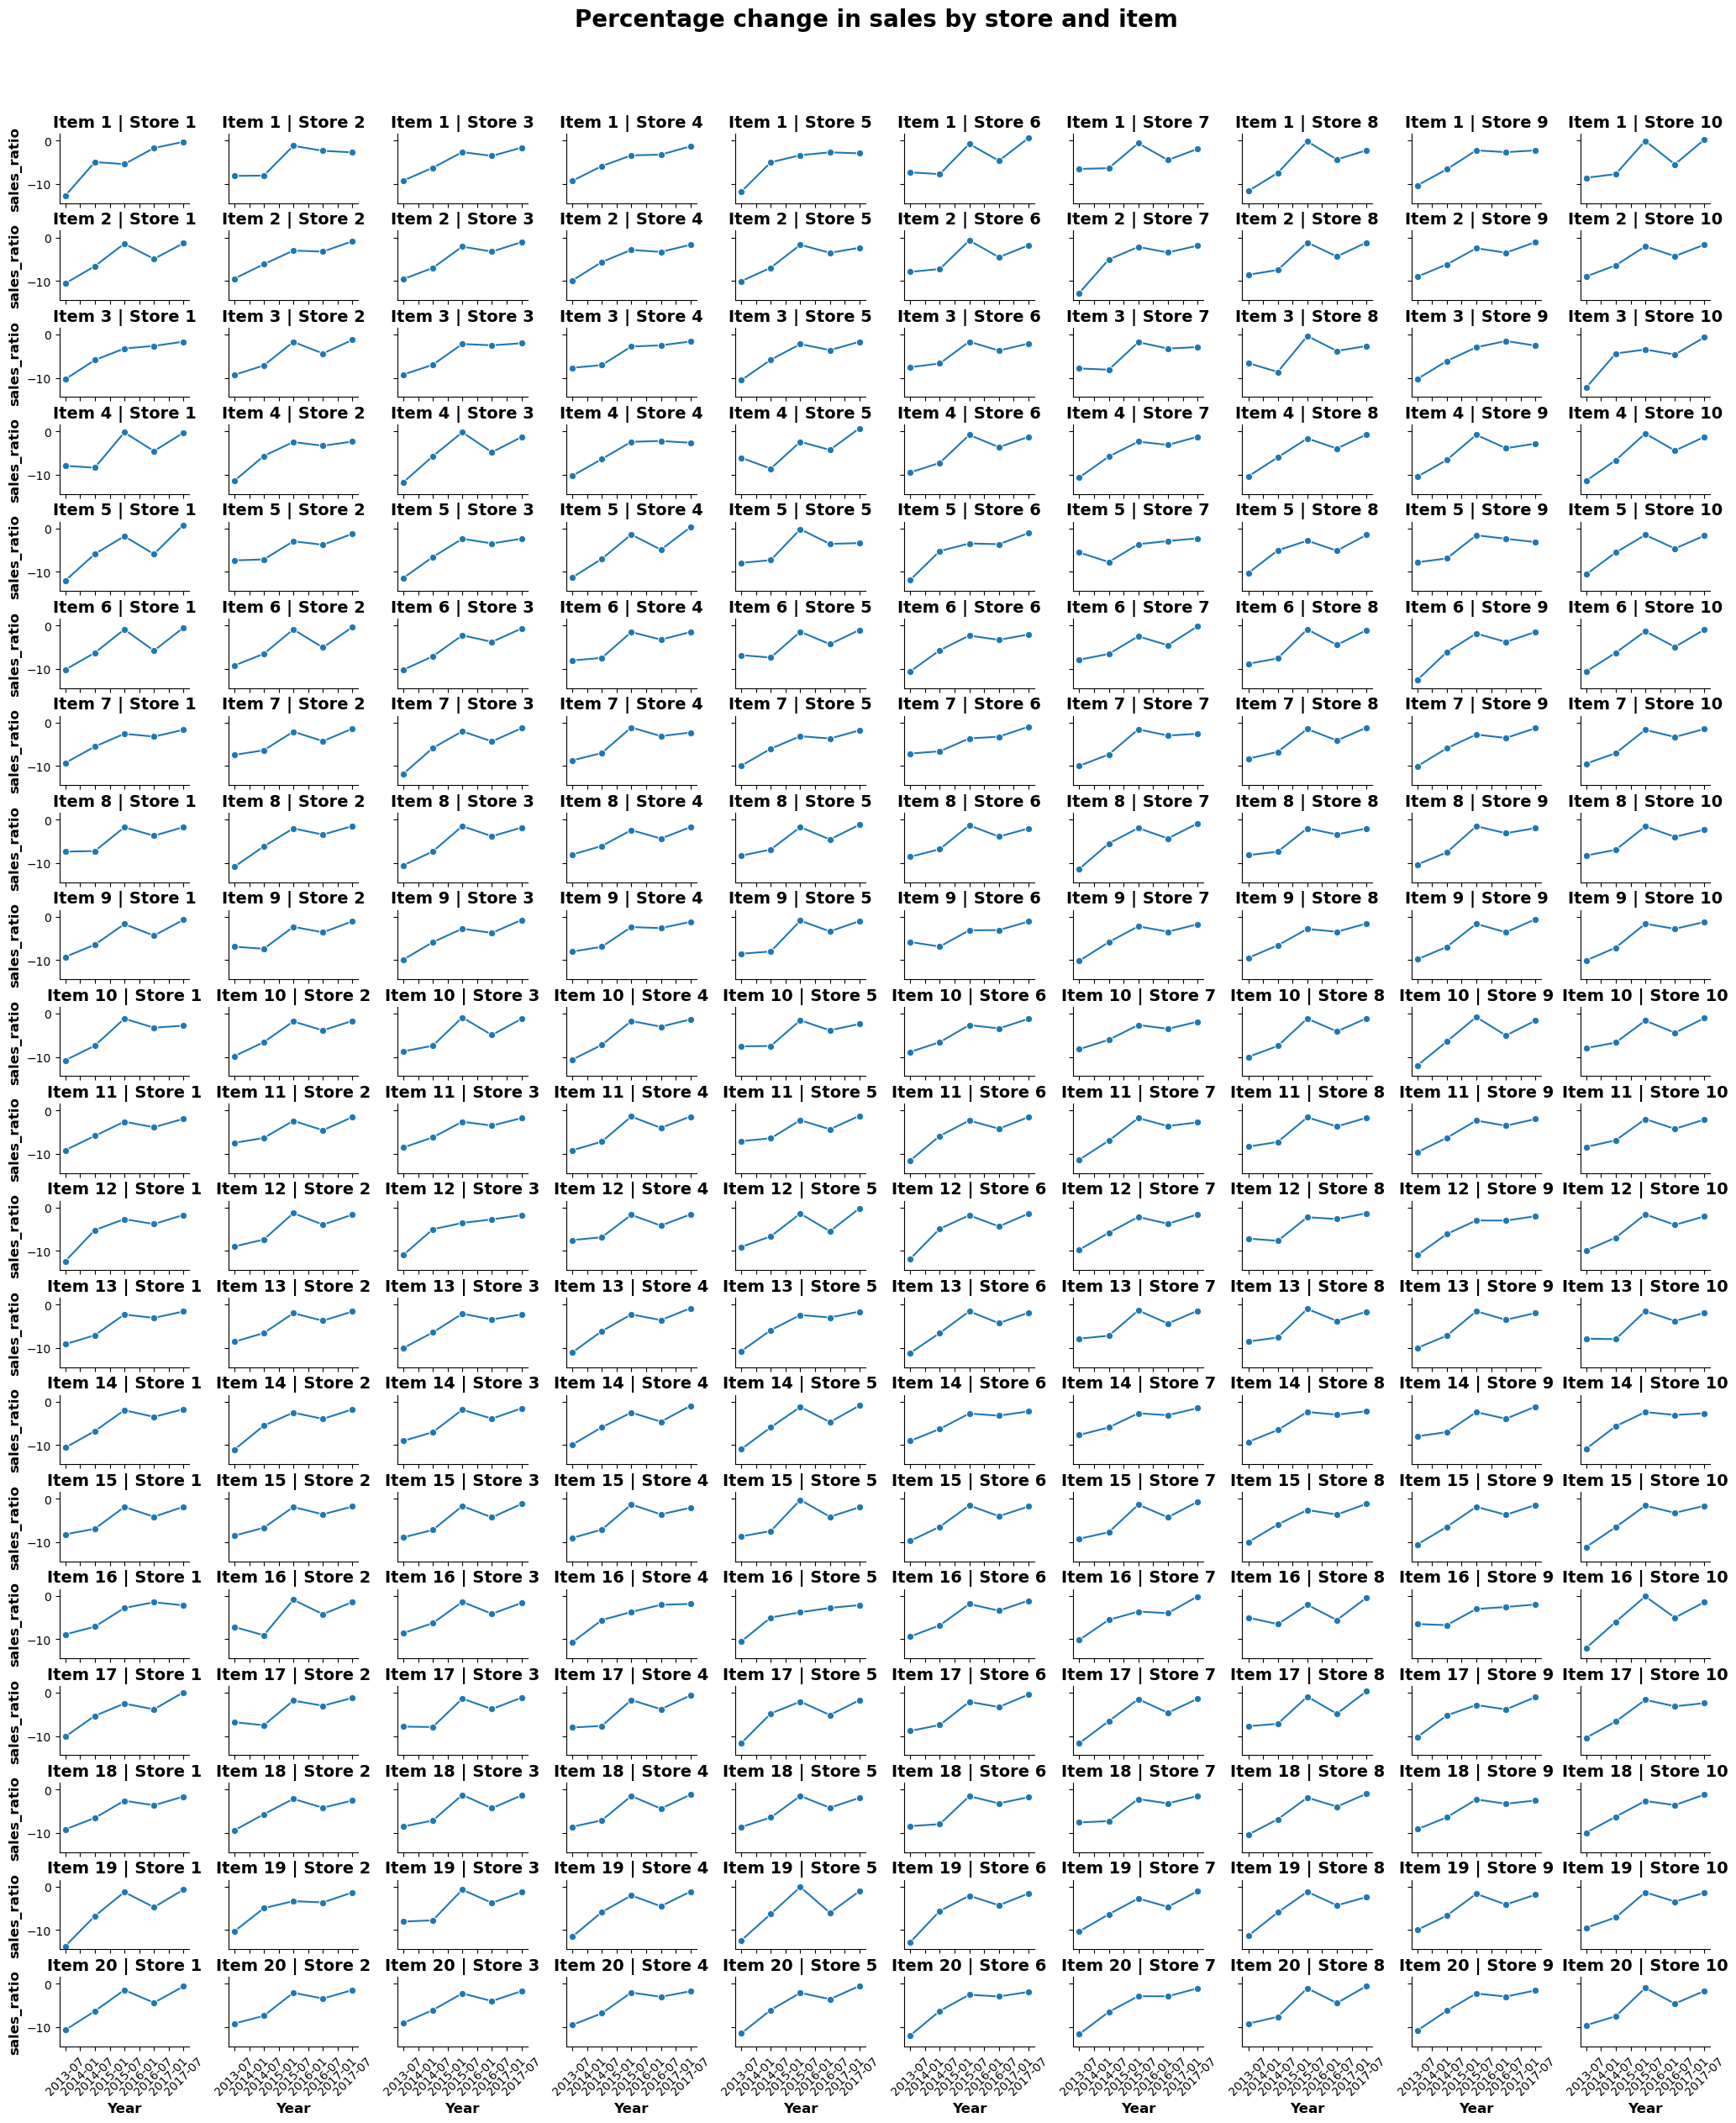

The dashboard page shown, as its layout file describes it:
{"tool":"powerbi","page":{"name":"Page 1","canvas":[1280,720],"ordinal":0},"visuals":[{"type":"lineChart","fields":{"Y":["Median(df.sales)"],"Category":["df.date.Variation.Date Hierarchy.Year","df.date.Variation.Date Hierarchy.Quarter","df.date.Variation.Date Hierarchy.Month","df.date.Variation.Date Hierarchy.Day"],"Rows":["df.item"]},"box":[25.7,0,506.3,564.9],"z":0},{"type":"pythonVisual","box":[26,570,506,150],"z":1}]}

Visuals, with their boxes on the page's 1280x720 design canvas (x1, y1, x2, y2). These are canvas units, not pixel positions in the 1736x2123 screenshot, which may show the page scaled, cropped or inside an application window:
lineChart - Median(df.sales) x df.date.Variation.Date Hierarchy.Year: <box>26,0,532,565</box>
pythonVisual: <box>26,570,532,720</box>
